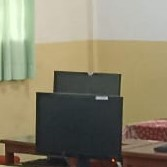monitor: (35, 92, 123, 160), (53, 70, 121, 96)
